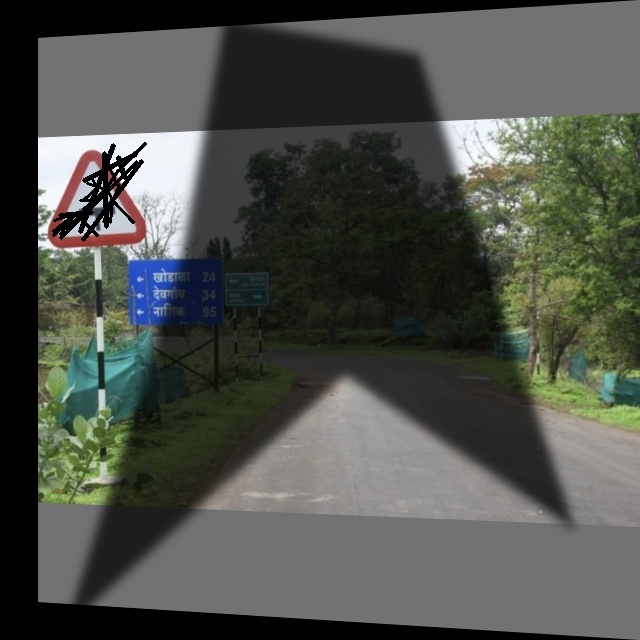T_Intersection: (51, 145, 149, 246)
